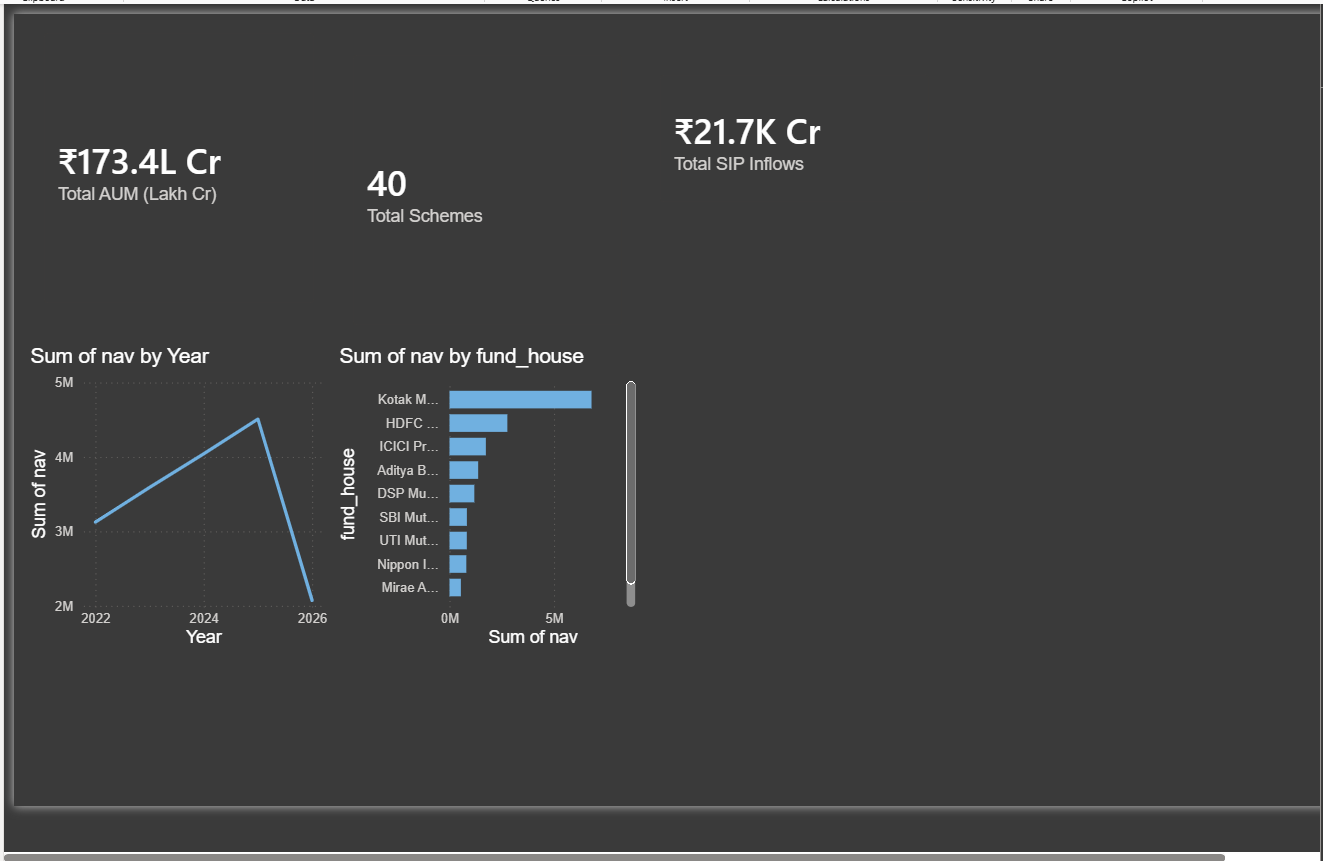

The dashboard page shown, as its layout file describes it:
{"tool":"powerbi","page":{"name":"Industry Overview","canvas":[1280,720],"ordinal":0},"visuals":[{"type":"cardVisual","fields":{"Data":["clean_nav_history.Total AUM (Lakh Cr)"]},"box":[10,0,280,280],"z":0},{"type":"cardVisual","fields":{"Data":["clean_fund_master.Total Schemes"]},"box":[290.7,19.8,279.5,280.3],"z":1000},{"type":"cardVisual","fields":{"Data":["clean_investor_transactions.Total SIP Inflows"]},"box":[570.1,38,279.5,150.1],"z":2000},{"type":"lineChart","fields":{"Category":["clean_nav_history.date.Variation.Date Hierarchy.Year","clean_nav_history.date.Variation.Date Hierarchy.Quarter","clean_nav_history.date.Variation.Date Hierarchy.Month","clean_nav_history.date.Variation.Date Hierarchy.Day"],"Y":["Sum(clean_nav_history.nav)"]},"box":[10,300,280,280],"z":3000},{"type":"clusteredBarChart","fields":{"Category":["clean_fund_master.fund_house"],"Y":["Sum(clean_nav_history.nav)"]},"box":[291,300,279,280],"z":4000}]}

Visuals, with their boxes on the page's 1280x720 design canvas (x1, y1, x2, y2). These are canvas units, not pixel positions in the 1323x861 screenshot, which may show the page scaled, cropped or inside an application window:
cardVisual - clean_nav_history.Total AUM (Lakh Cr): [x1=10, y1=0, x2=290, y2=280]
cardVisual - clean_fund_master.Total Schemes: [x1=291, y1=20, x2=570, y2=300]
cardVisual - clean_investor_transactions.Total SIP Inflows: [x1=570, y1=38, x2=850, y2=188]
lineChart - clean_nav_history.date.Variation.Date Hierarchy.Year x clean_nav_history.date.Variation.Date Hierarchy.Quarter: [x1=10, y1=300, x2=290, y2=580]
clusteredBarChart - clean_fund_master.fund_house x Sum(clean_nav_history.nav): [x1=291, y1=300, x2=570, y2=580]
